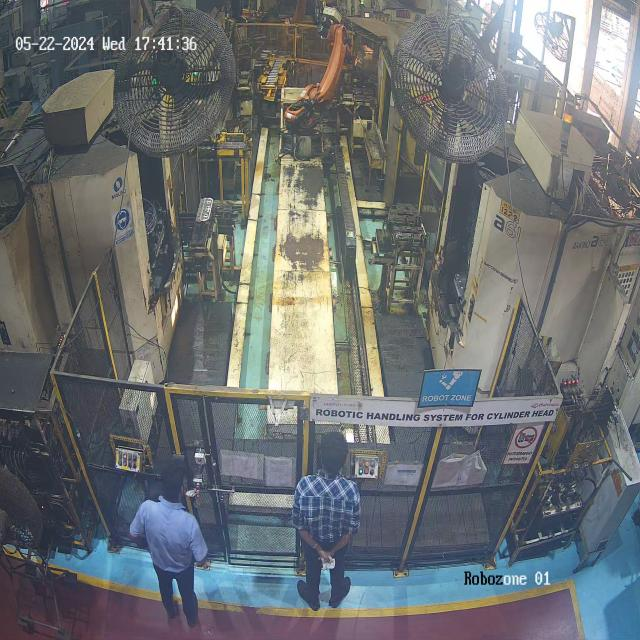person: (126, 456, 223, 636), (288, 424, 366, 629)
